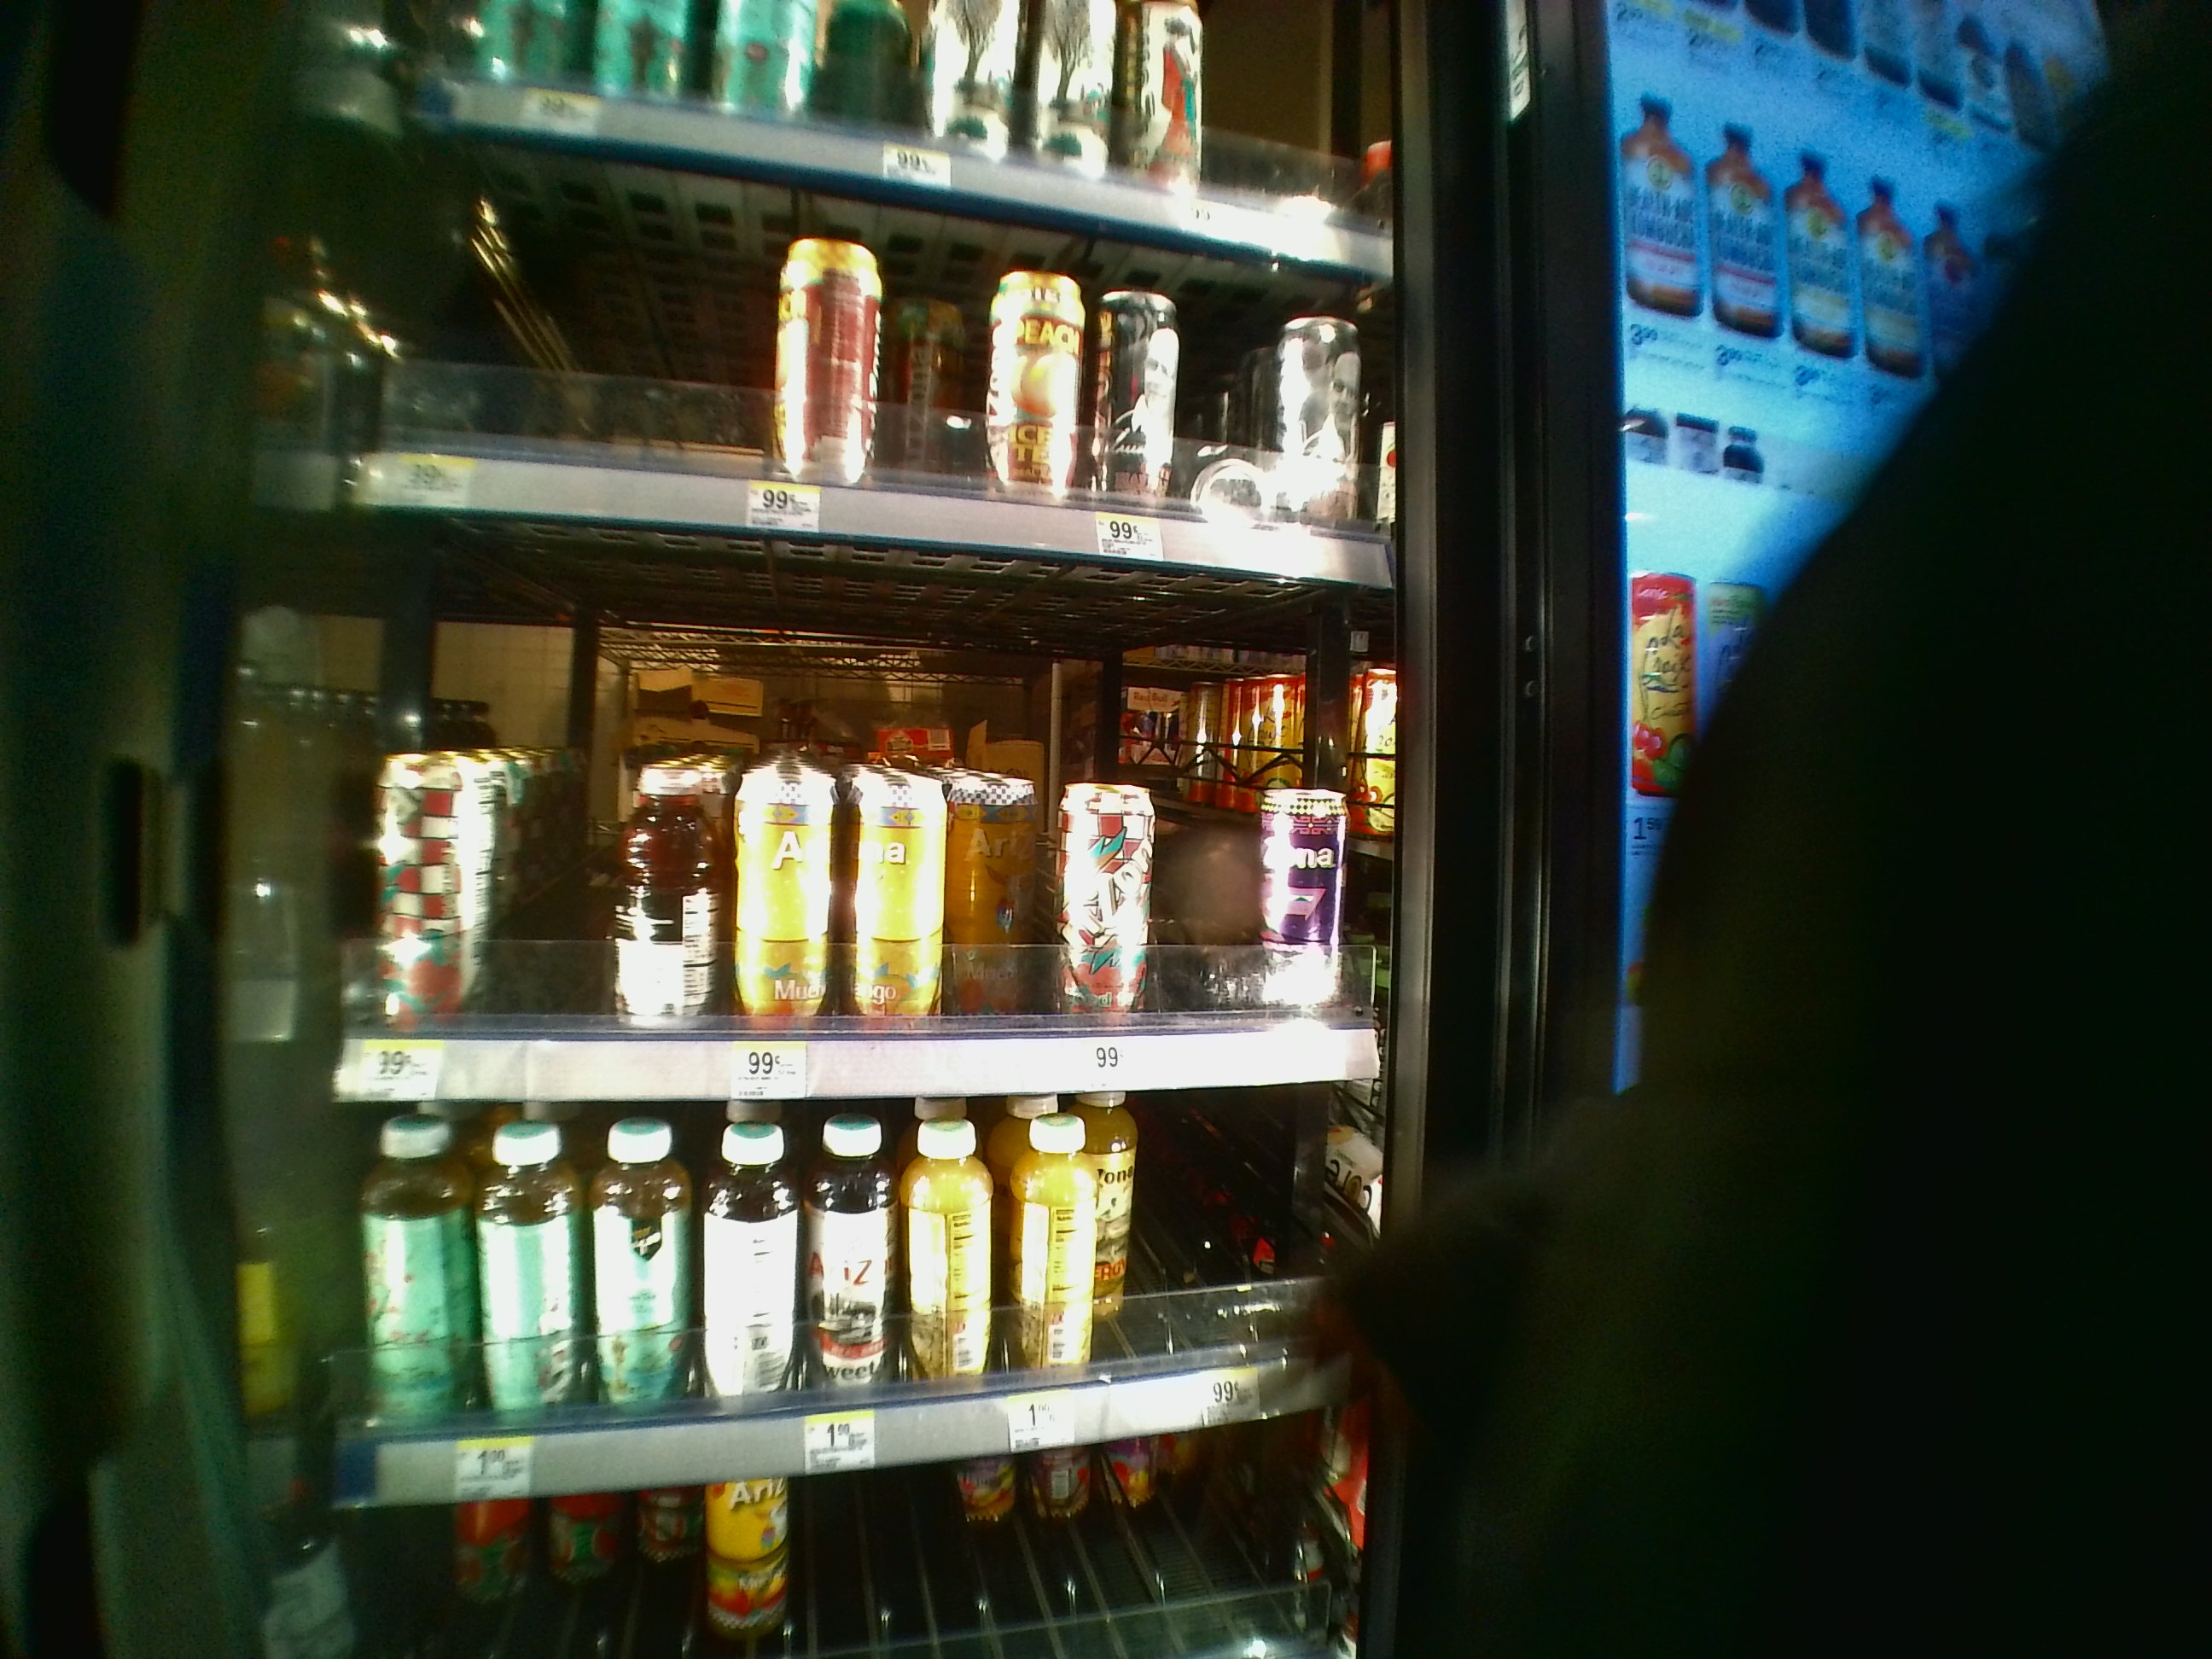shelf: (326, 521, 1379, 1098)
